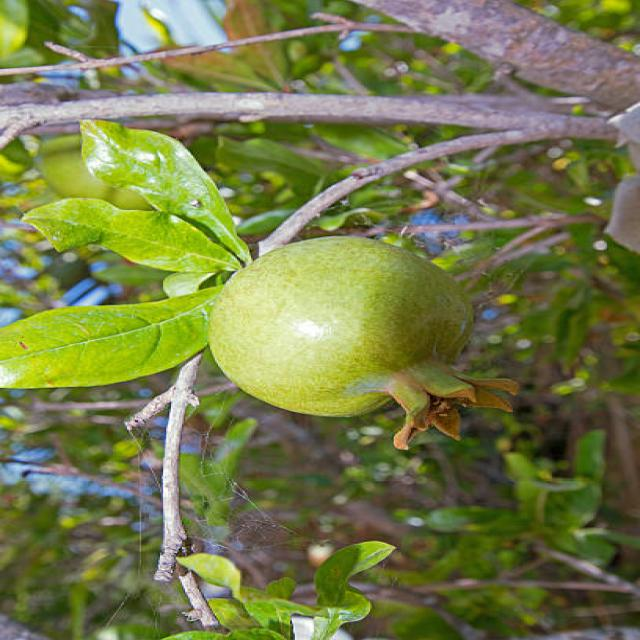Unripe: (206, 237, 520, 454)
